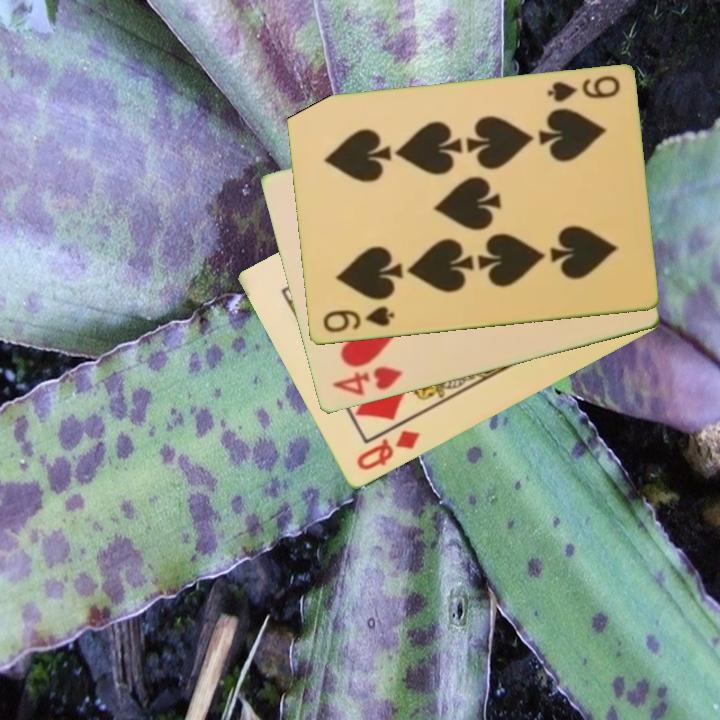4h: (328, 363, 405, 400)
9s: (543, 73, 623, 106), (319, 303, 397, 336)
Qd: (352, 427, 423, 474)
